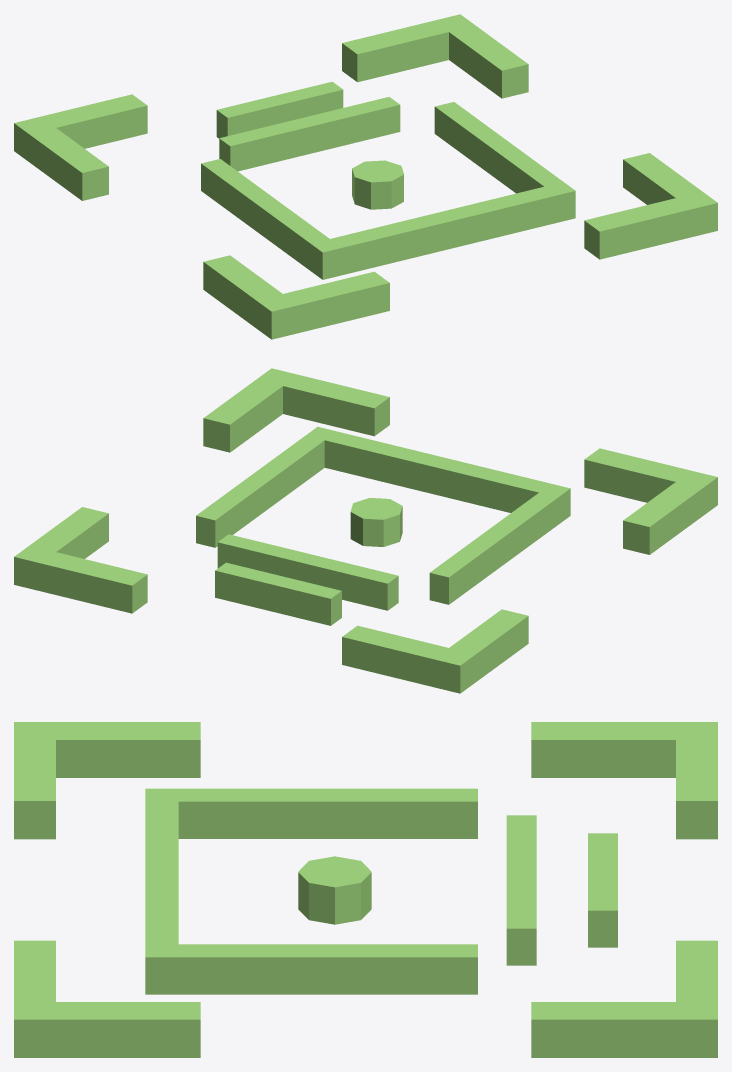
Rendered from build_marker.fbx.
3 renders of one model, top to bottom at view 1: azimuth 30°, elevation 25°; view 2: azimuth 150°, elevation 25°; view 3: azimuth 270°, elevation 25°, orthographic. The views are drawn at different scales.
Visible parts, largest first — view 1: build_marker; view 2: build_marker; view 3: build_marker.
Part boxes in pixels (x1,y1,x2,y2): build_marker: (14, 14, 717, 339); build_marker: (14, 368, 717, 693); build_marker: (14, 722, 717, 1057).
Size of the model in its own units: 2 by 0.1198 by 2.
